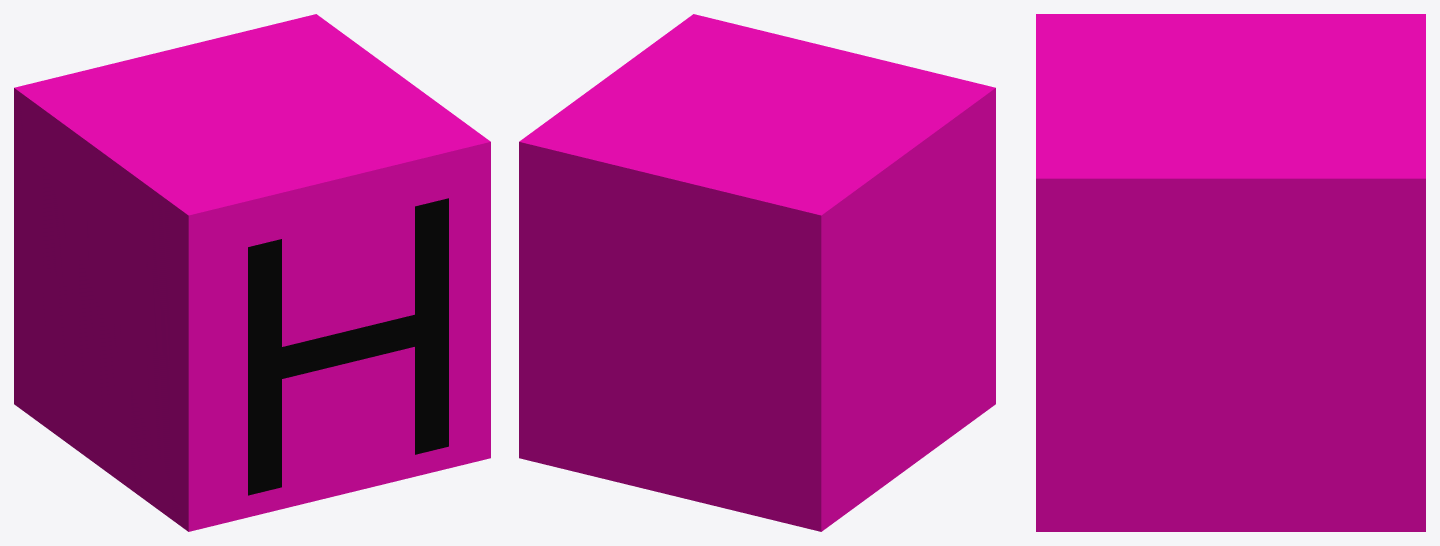
File: Tegel8.gltf
3 views of the same model, side by side, from view 1: azimuth 30°, elevation 25°; view 2: azimuth 150°, elevation 25°; view 3: azimuth 270°, elevation 25° (orthographic). The views are drawn at different scales.
Parts seen in each view (by area): view 1: Cube.010, Text.010; view 2: Cube.010; view 3: Cube.010.
Boxes of the visible parts, left/top/right/bottom form: Cube.010: left=14, top=14, right=490, bottom=531; Text.010: left=248, top=198, right=448, bottom=495; Cube.010: left=519, top=14, right=995, bottom=531; Cube.010: left=1036, top=14, right=1425, bottom=531.
Bounding box in the file's own units: 0.2 × 0.2 × 0.2061.
